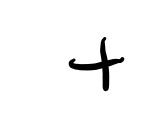plus: (70, 37, 123, 90)
